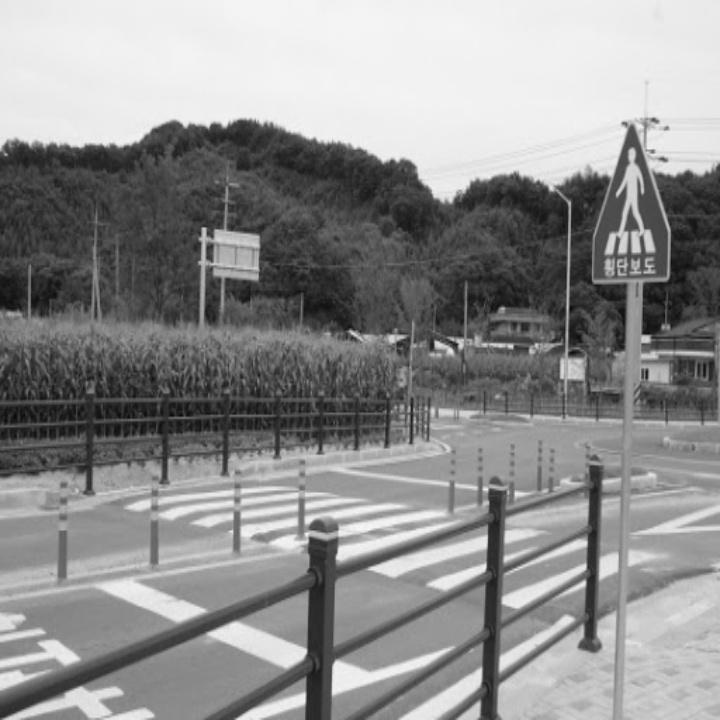cross: (589, 133, 688, 252)
